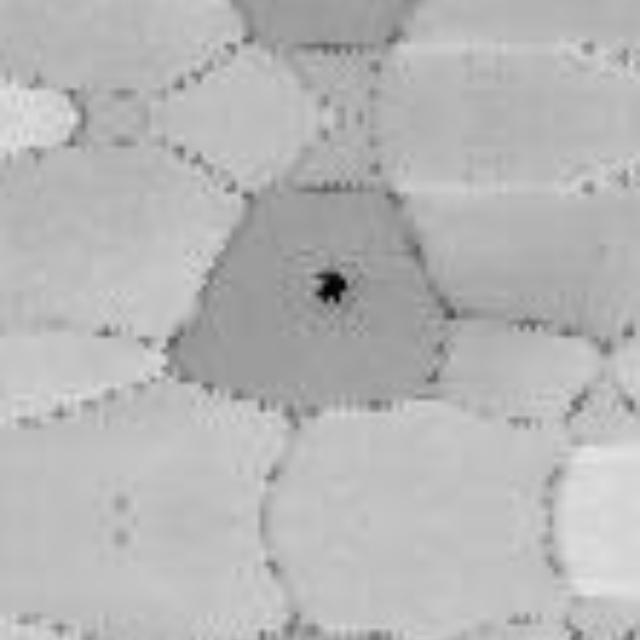good_void: (299, 259, 360, 320)
